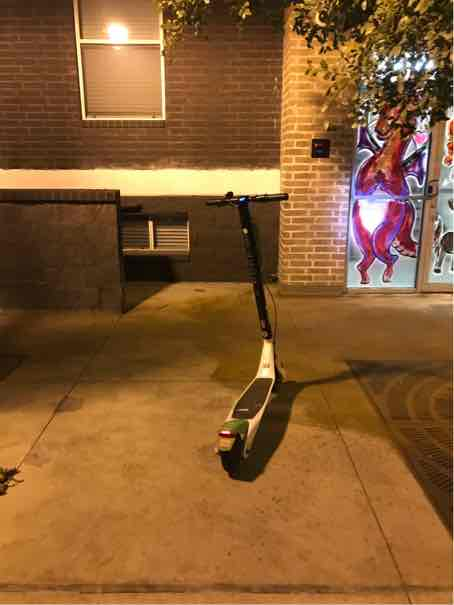scooter: (187, 194, 302, 486)
